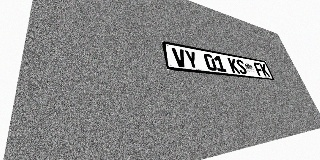plate: (161, 41, 274, 80)
